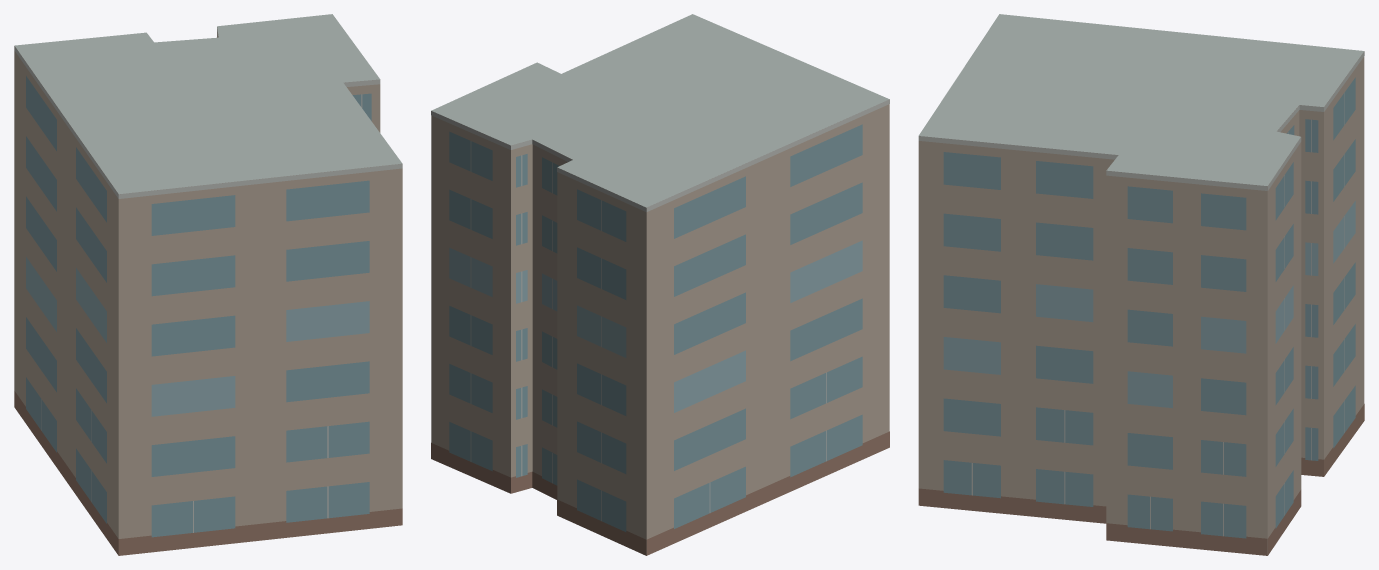
File: survey-upis-32589024.glb
3 views of the same model, side by side, from view 1: azimuth 30°, elevation 25°; view 2: azimuth 150°, elevation 25°; view 3: azimuth 270°, elevation 25° (orthographic). The views are drawn at different scales.
Visible parts, largest first — view 1: survey-upis-32589024.tmp; view 2: survey-upis-32589024.tmp; view 3: survey-upis-32589024.tmp.
Boxes of the visible parts, x1,y1,x2,y2 form: survey-upis-32589024.tmp: (14,14,402,555); survey-upis-32589024.tmp: (431,14,889,555); survey-upis-32589024.tmp: (918,14,1364,555).
Size of the model in its own units: 18.28 by 18.3 by 20.01.
